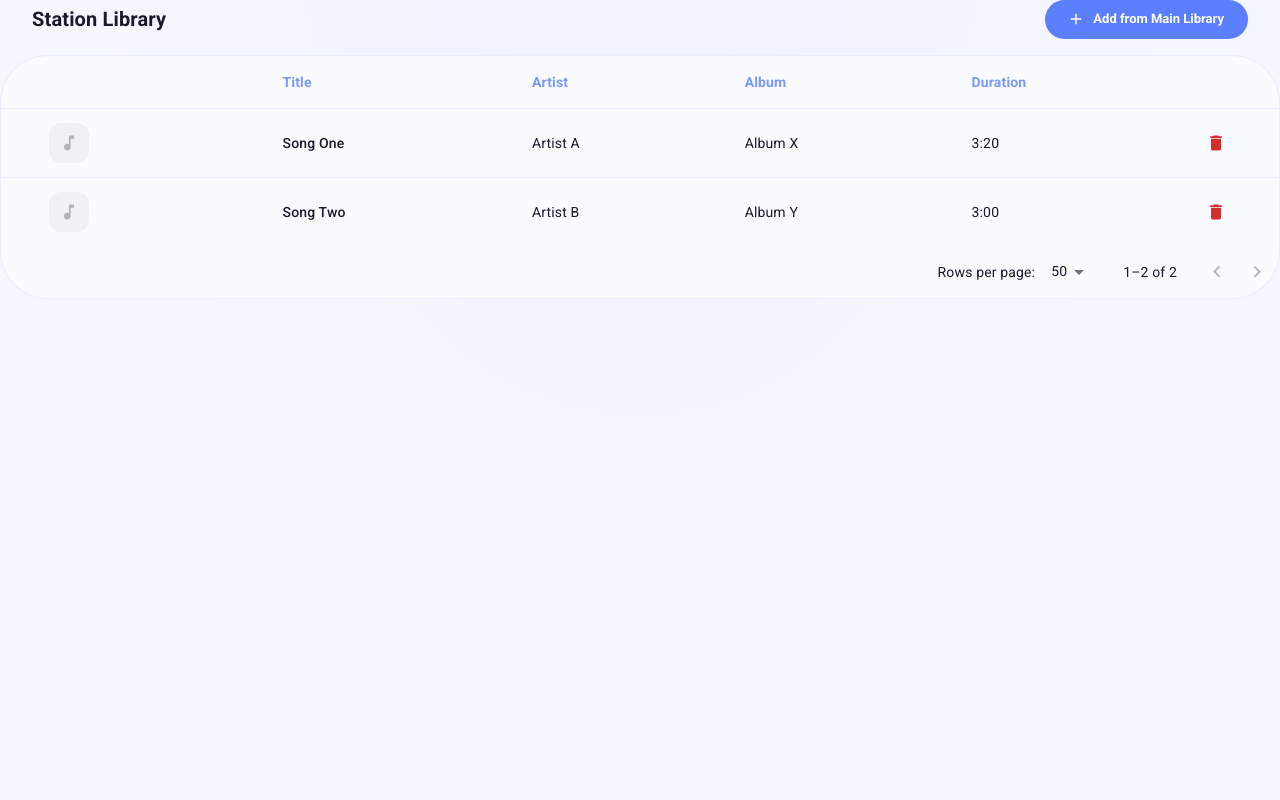
Test: LibraryTab › opens add dialog on button click
Step 1. Click the button "Add from Main Library" → (1147, 19), box [1045, 0, 1248, 39]
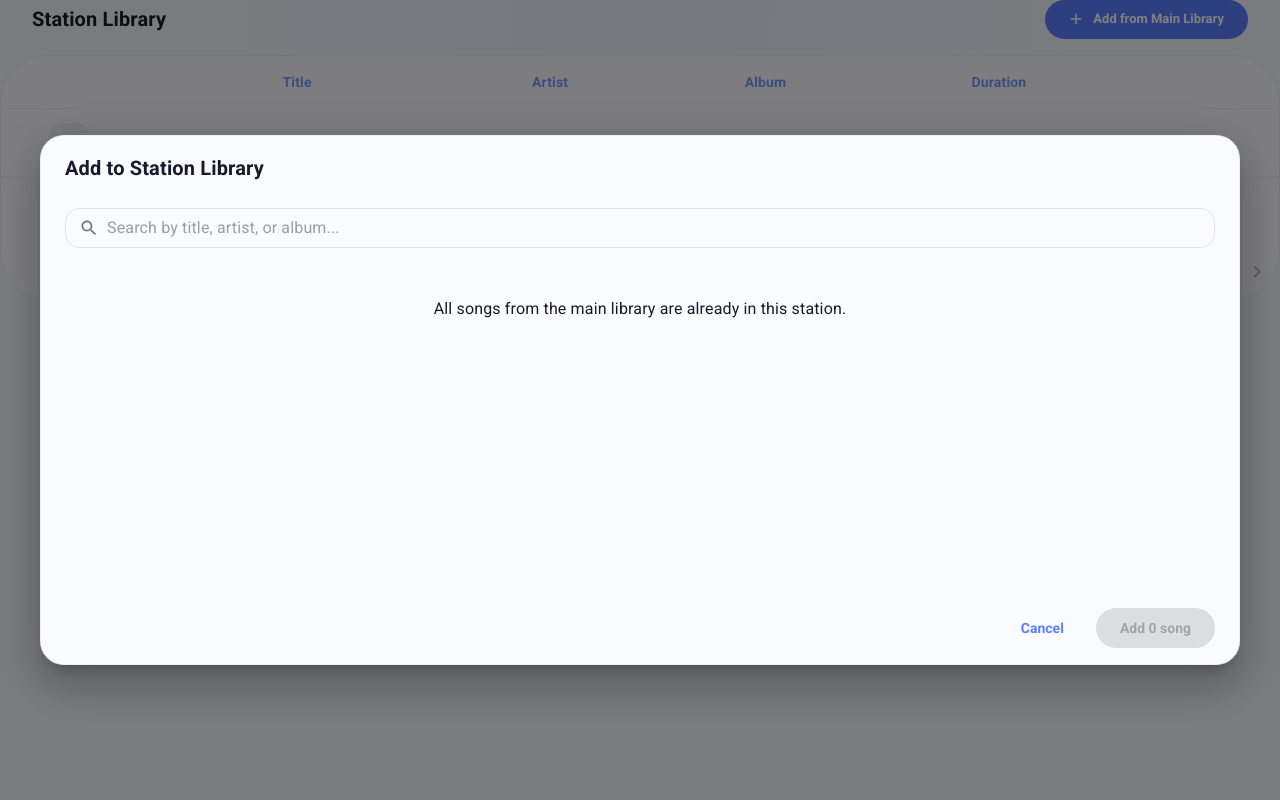
Now the heading "Add to Station Library" is shown, box [65, 156, 264, 180]
